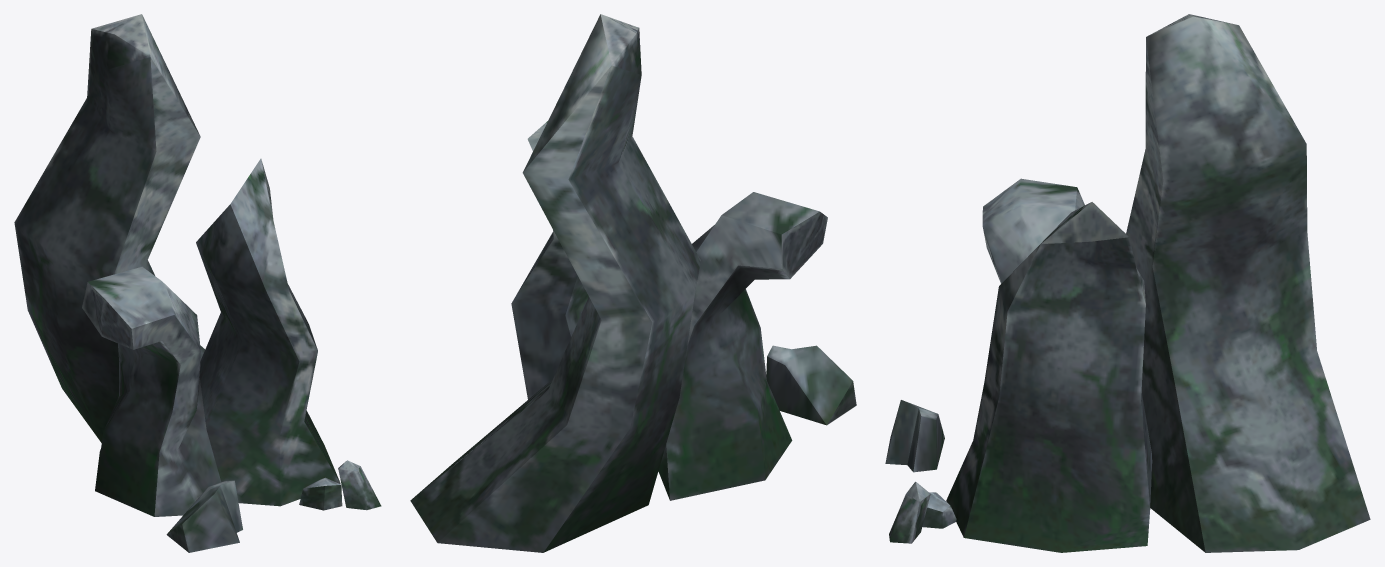
The model's file is stemple_tentacle_05.fbx.
The picture shows the model from 3 angles, left to right: view 1: azimuth 30°, elevation 25°; view 2: azimuth 150°, elevation 25°; view 3: azimuth 270°, elevation 25°; orthographic projection. The views are drawn at different scales.
Parts seen in each view (by area): view 1: stemple_tentacle_05_mat; view 2: stemple_tentacle_05_mat; view 3: stemple_tentacle_05_mat.
Part boxes in pixels (left/top/right/bottom): stemple_tentacle_05_mat: left=14, top=14, right=381, bottom=552; stemple_tentacle_05_mat: left=410, top=14, right=856, bottom=552; stemple_tentacle_05_mat: left=885, top=14, right=1370, bottom=552.
Size of the model in its own units: 2.44 by 4.1 by 3.85.
